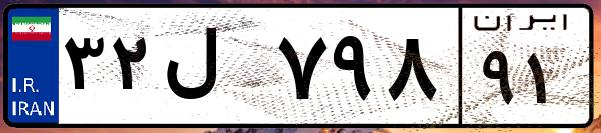1: (525, 38, 570, 115)
2: (110, 28, 158, 98)
3: (57, 26, 110, 100)
7: (270, 28, 330, 110)
8: (385, 28, 445, 110)
9: (330, 28, 385, 110), (475, 38, 525, 113)
ل: (158, 20, 270, 120)
